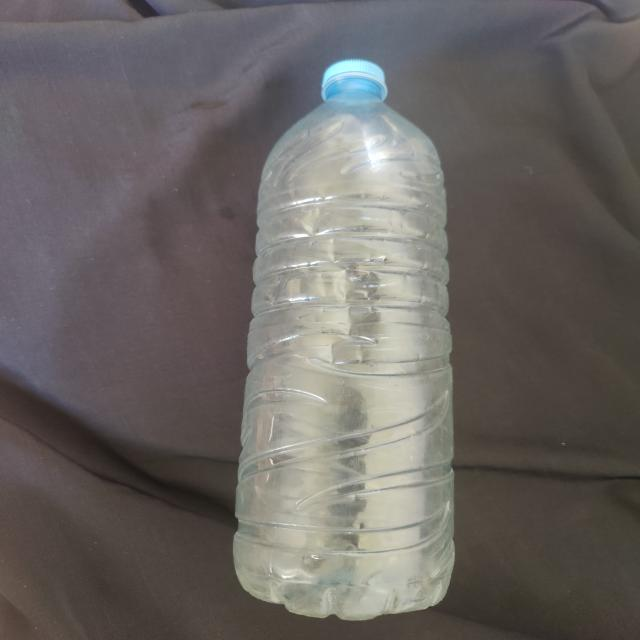plastic: (234, 56, 455, 619)
